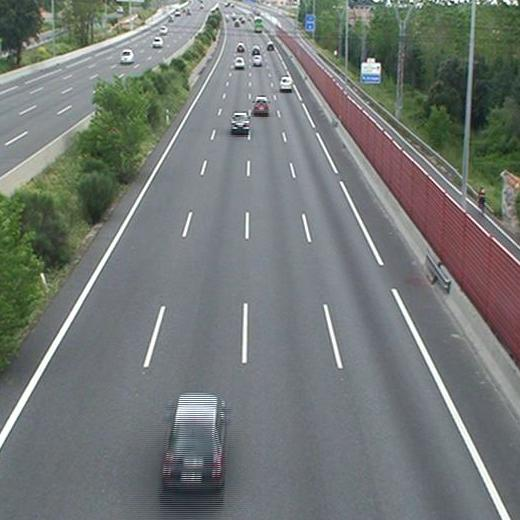bus: (253, 17, 263, 35)
car: (163, 395, 224, 485), (230, 113, 250, 132), (253, 98, 269, 115), (279, 77, 292, 91), (234, 58, 245, 70), (253, 56, 262, 65), (252, 45, 260, 55), (265, 42, 273, 50), (236, 45, 244, 51)
